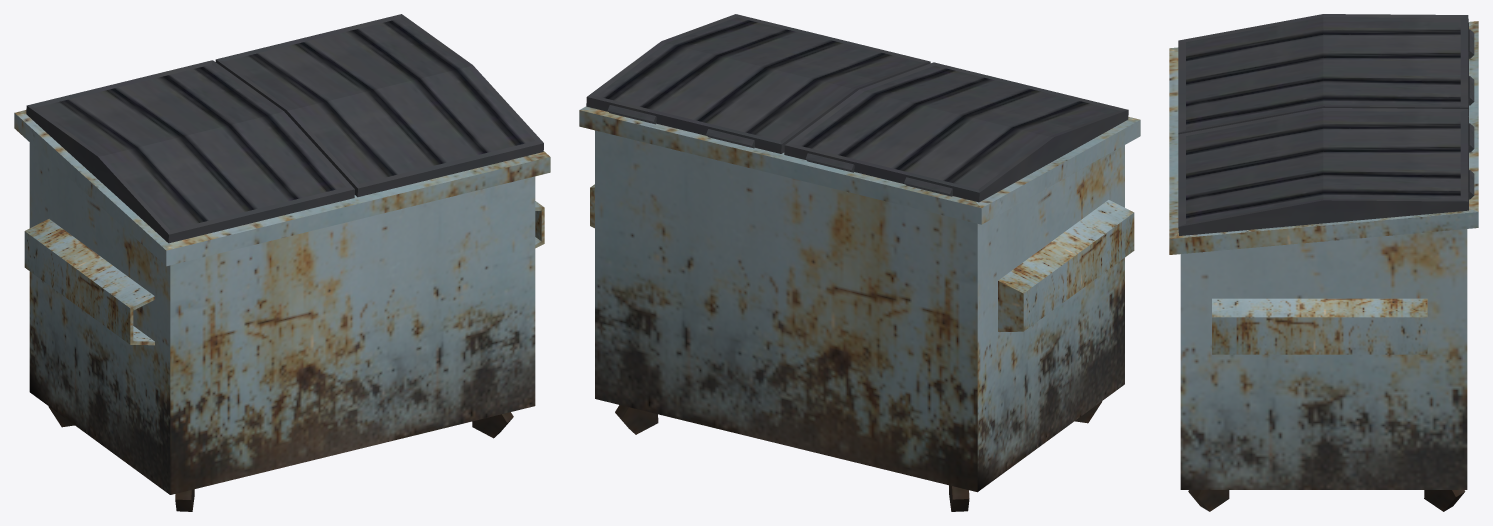
File: Dumpster.dae
The picture shows the model from 3 angles, left to right: view 1: azimuth 30°, elevation 25°; view 2: azimuth 150°, elevation 25°; view 3: azimuth 270°, elevation 25°; orthographic projection. The views are drawn at different scales.
Visible parts, largest first — view 1: Dumpster, Cube.035, Cube.034; view 2: Dumpster, Cube.035, Cube.034; view 3: Dumpster, Cube.034, Cube.035.
Boxes of the visible parts, x1,y1,x2,y2 form: Dumpster: (14, 110, 550, 511); Cube.035: (26, 60, 354, 243); Cube.034: (215, 14, 543, 197); Dumpster: (579, 106, 1140, 511); Cube.035: (784, 62, 1128, 202); Cube.034: (586, 14, 930, 153); Dumpster: (1169, 21, 1478, 511); Cube.034: (1178, 108, 1474, 235); Cube.035: (1178, 14, 1474, 134).
Size of the model in its own units: 2.32 by 1.47 by 1.71.
1 material, 1 textured.
